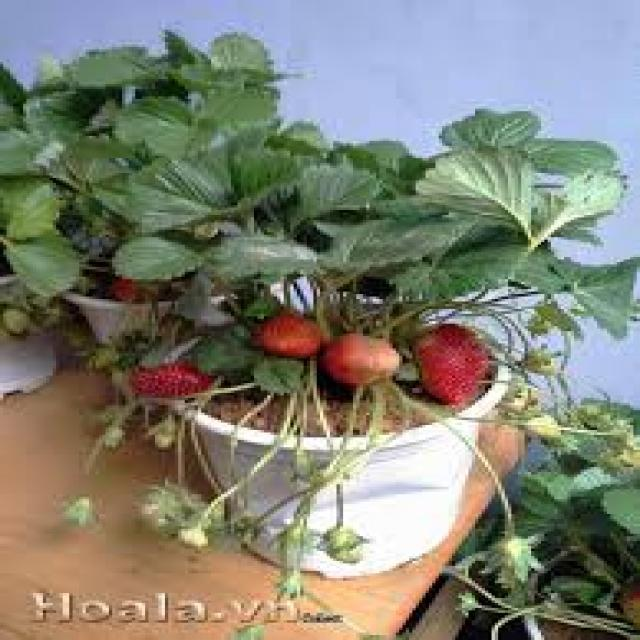Fruta sana: (414, 323, 484, 400), (328, 332, 402, 384), (250, 310, 322, 354), (134, 362, 213, 402), (109, 274, 169, 304)
